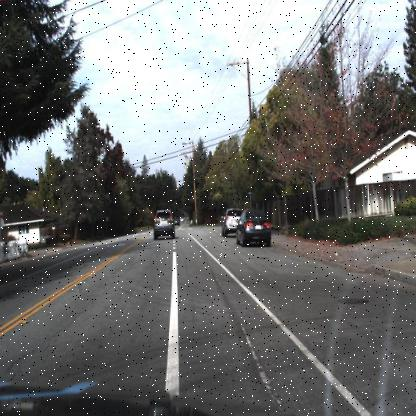car: (234, 206, 273, 252), (148, 205, 178, 246), (218, 202, 244, 238), (219, 204, 238, 244)
